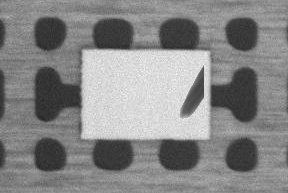DIE_INK: (178, 63, 204, 119)
